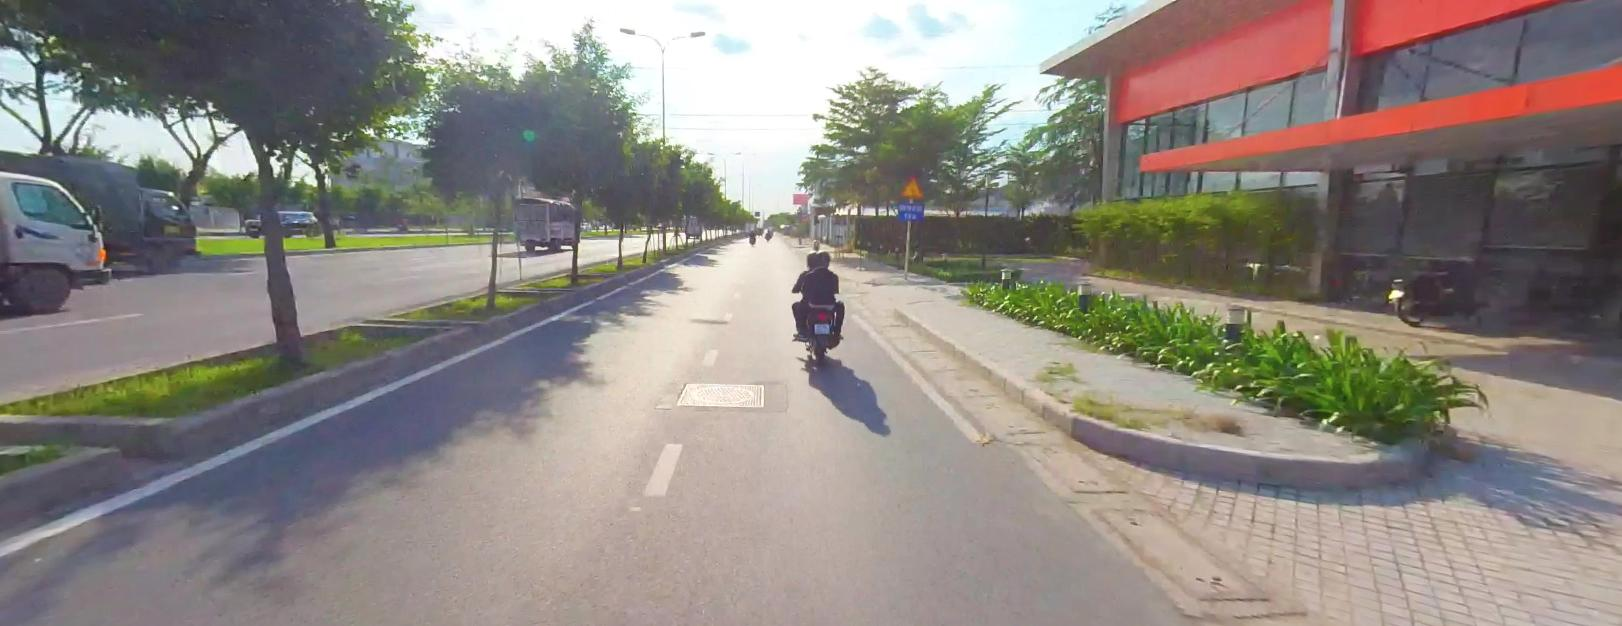Nguy hiem: (902, 177, 921, 196)
